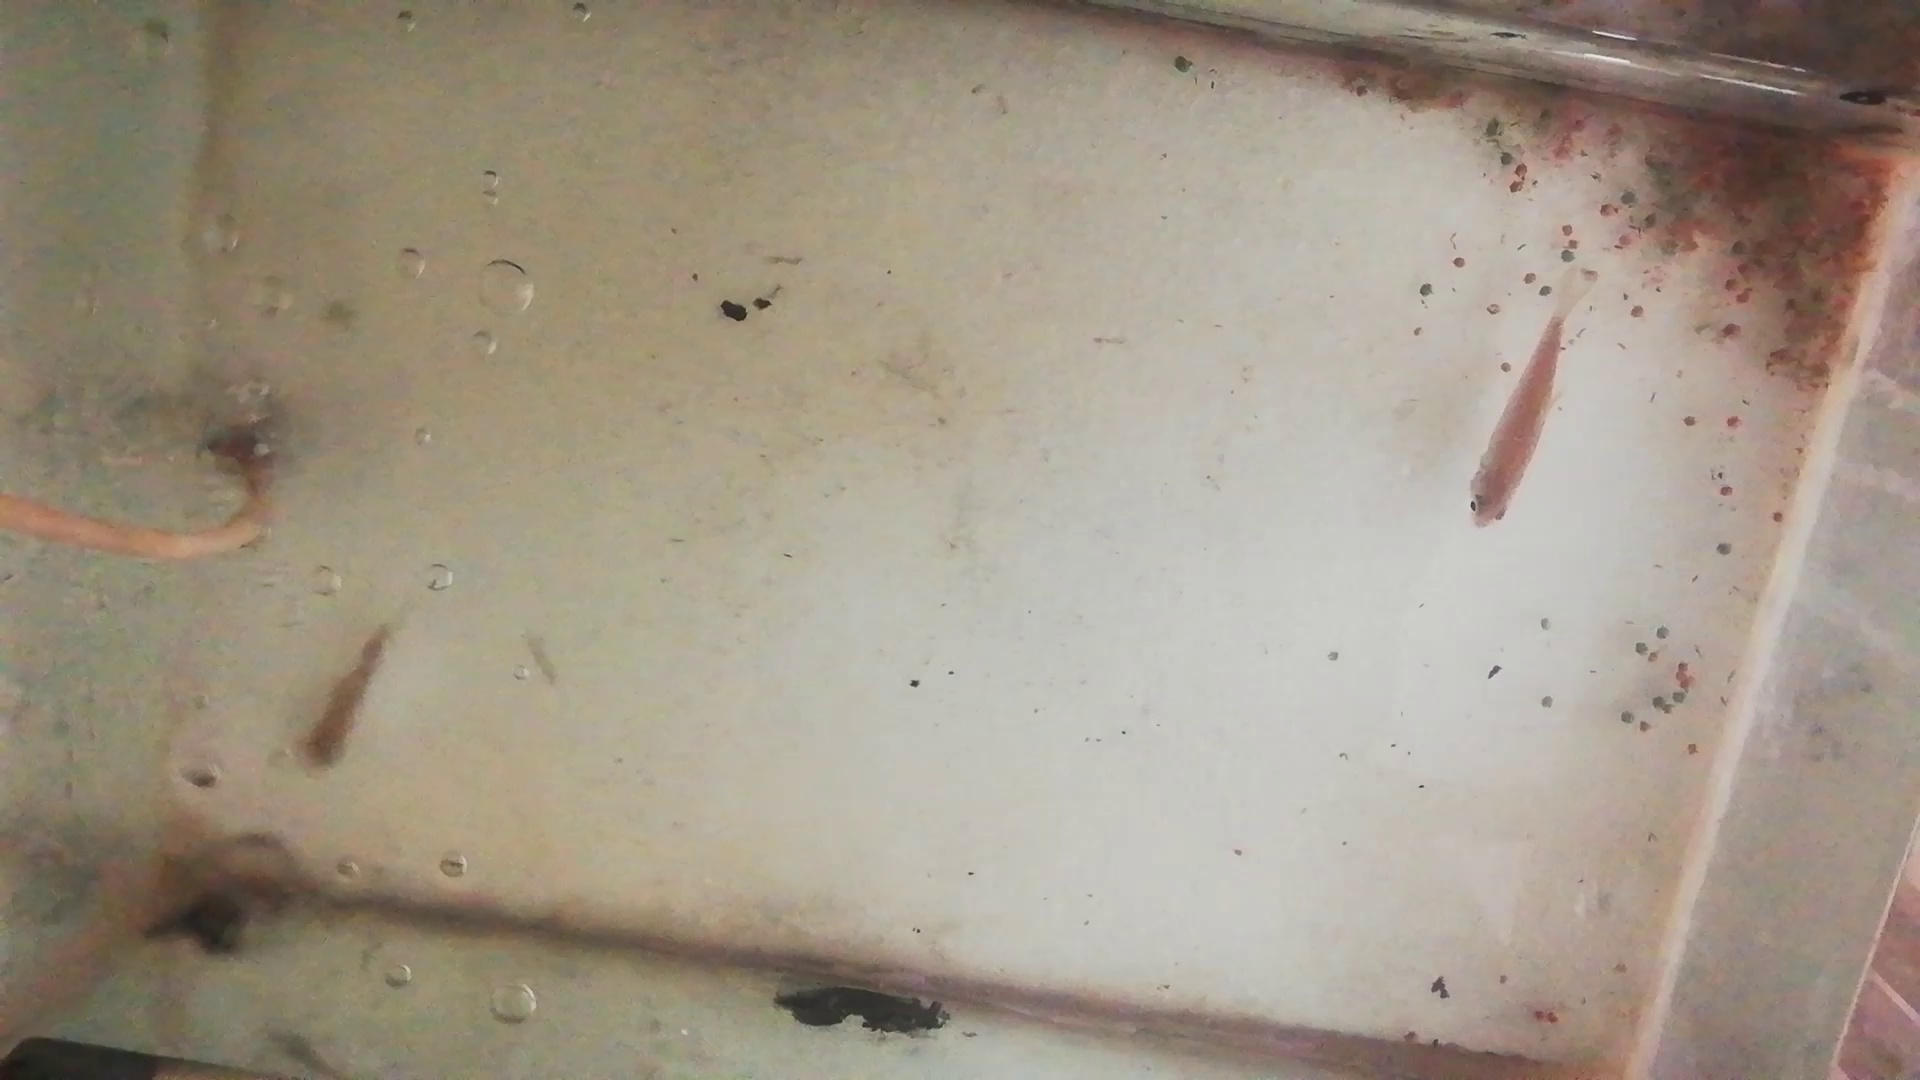fish: (1457, 313, 1571, 527), (295, 629, 392, 775)
